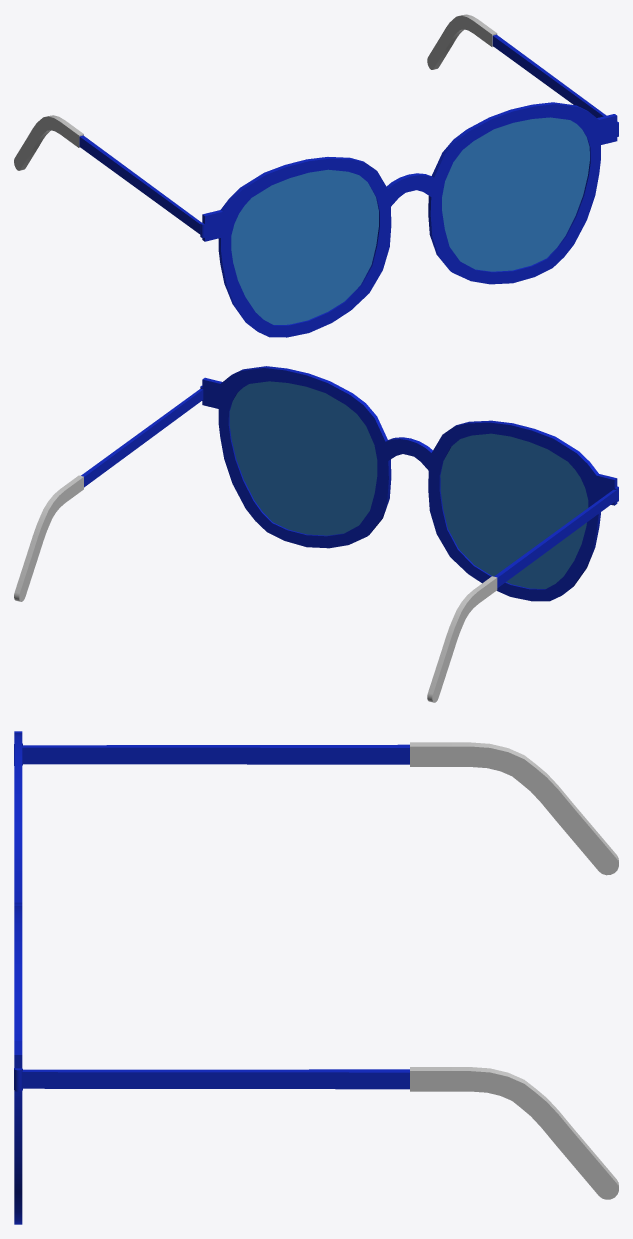
Rendered from glasses5.003.obj.
The picture shows the model from 3 angles, top to bottom: view 1: azimuth 30°, elevation 25°; view 2: azimuth 150°, elevation 25°; view 3: azimuth 270°, elevation 25°; orthographic projection. The views are drawn at different scales.
Parts seen in each view (by area): view 1: glasses5.003_glasses5.003_Material.014, glasses5.003_glasses5.003_Material.015, glasses5.003_glasses5.003_black; view 2: glasses5.003_glasses5.003_Material.014, glasses5.003_glasses5.003_Material.015, glasses5.003_glasses5.003_black; view 3: glasses5.003_glasses5.003_Material.015, glasses5.003_glasses5.003_black.
Boxes of the visible parts, <box> form: glasses5.003_glasses5.003_Material.014: <box>231,117,589,324</box>; glasses5.003_glasses5.003_Material.015: <box>79,34,618,337</box>; glasses5.003_glasses5.003_black: <box>14,14,497,170</box>; glasses5.003_glasses5.003_Material.014: <box>229,381,588,588</box>; glasses5.003_glasses5.003_Material.015: <box>81,366,618,601</box>; glasses5.003_glasses5.003_black: <box>14,475,497,702</box>; glasses5.003_glasses5.003_Material.015: <box>14,731,409,1224</box>; glasses5.003_glasses5.003_black: <box>410,742,618,1199</box>.
Bounding box in the file's own units: 2.08 × 0.8173 × 1.62.
